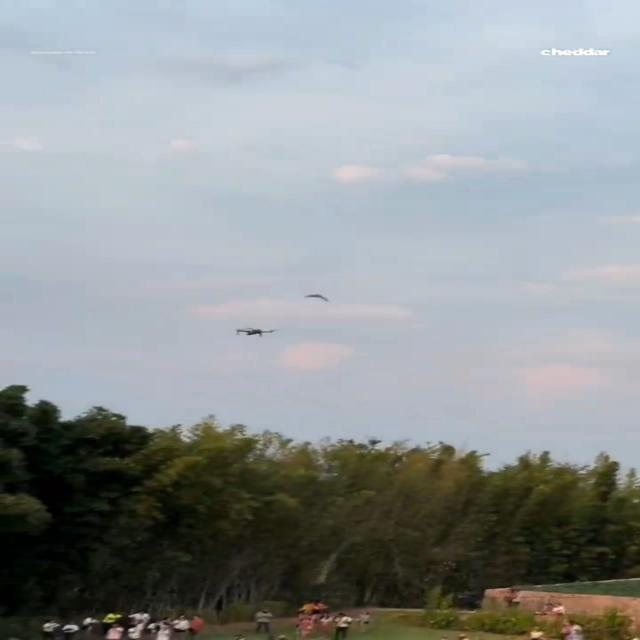bird: (303, 294, 329, 302)
drone: (234, 327, 274, 337)
